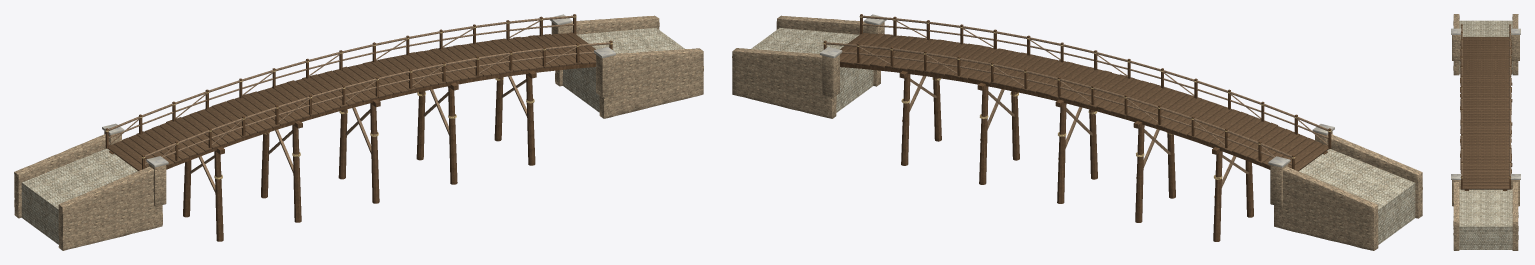
File: country_bridge_timber.glb
3 renders of one model, left to right at view 1: azimuth 30°, elevation 25°; view 2: azimuth 150°, elevation 25°; view 3: azimuth 270°, elevation 25°, orthographic. The views are drawn at different scales.
Parts seen in each view (by area): view 1: plank, drystone, wood_dark, paving, wood, marble, rope; view 2: plank, drystone, wood_dark, paving, wood, marble, rope; view 3: plank, paving, drystone, wood, wood_dark, marble, rope.
Part boxes in pixels (left/top/right/bottom): plank: left=108, top=32, right=596, bottom=170; drystone: left=14, top=15, right=703, bottom=250; wood_dark: left=105, top=14, right=612, bottom=241; paving: left=21, top=28, right=684, bottom=244; wood: left=108, top=15, right=610, bottom=192; marble: left=102, top=14, right=616, bottom=167; rope: left=105, top=16, right=612, bottom=179; plank: left=840, top=33, right=1328, bottom=171; drystone: left=732, top=15, right=1422, bottom=250; wood_dark: left=823, top=14, right=1331, bottom=241; paving: left=751, top=28, right=1415, bottom=244; wood: left=826, top=15, right=1328, bottom=197; marble: left=820, top=14, right=1334, bottom=167; rope: left=823, top=16, right=1331, bottom=179; plank: left=1460, top=37, right=1512, bottom=189; paving: left=1459, top=20, right=1512, bottom=249; drystone: left=1452, top=14, right=1519, bottom=250; wood: left=1461, top=25, right=1510, bottom=175; wood_dark: left=1460, top=24, right=1511, bottom=190; marble: left=1451, top=28, right=1520, bottom=179; rope: left=1460, top=25, right=1511, bottom=178.
Bounding box in the file's own units: 38.42 × 7.23 × 5.46.
7 materials, 7 textured.
